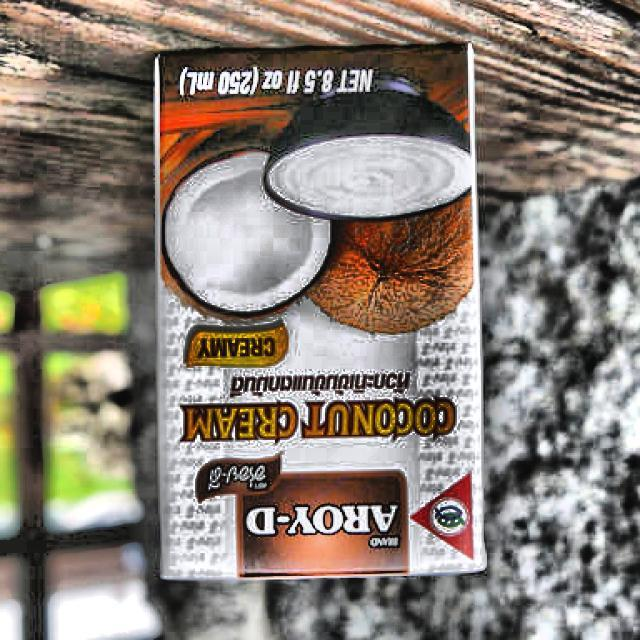cardboard: (153, 42, 487, 582)
